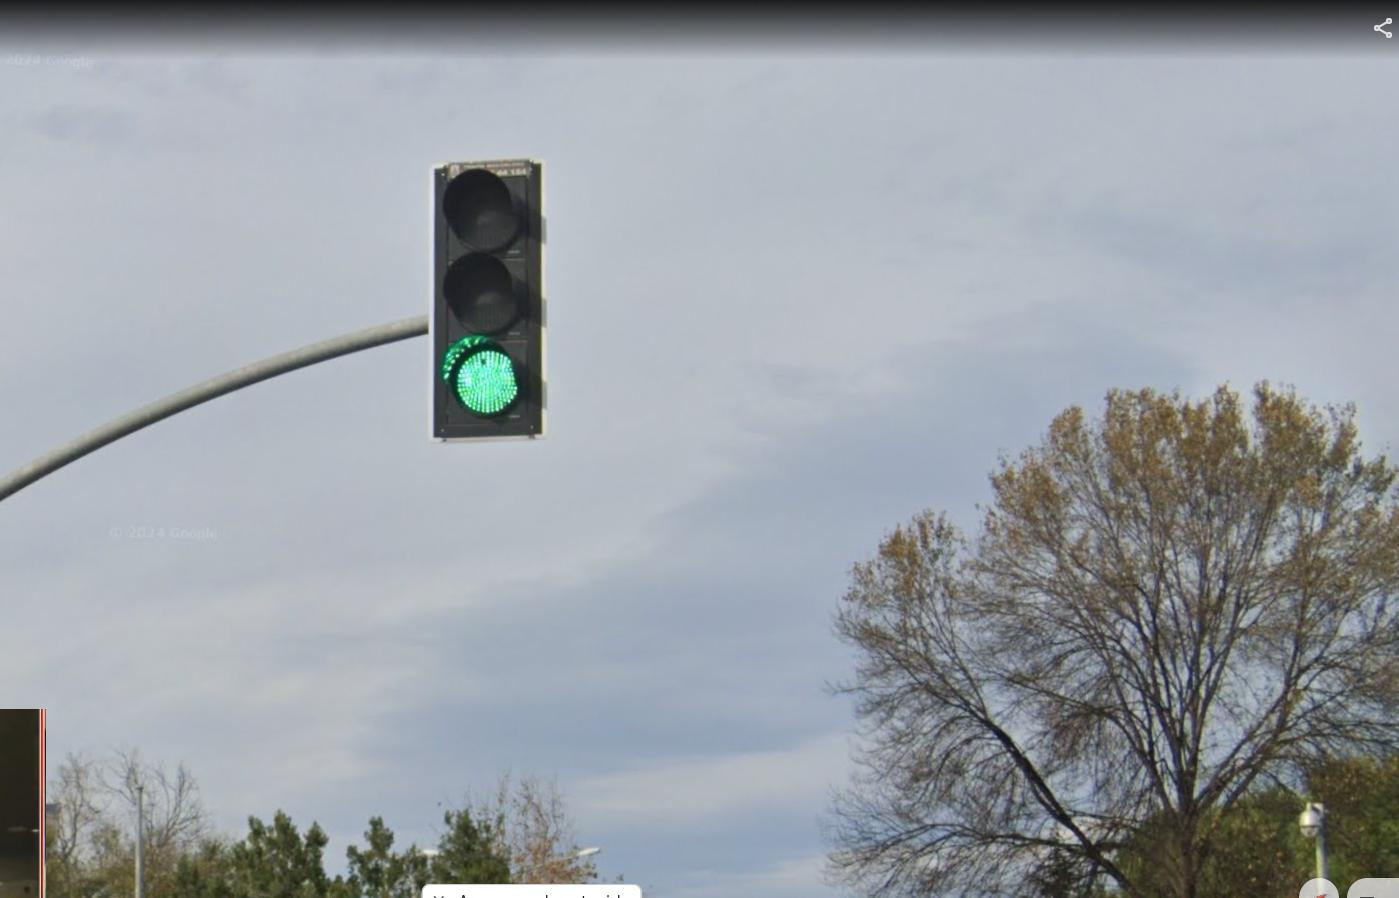greenlight: (432, 165, 553, 427)
